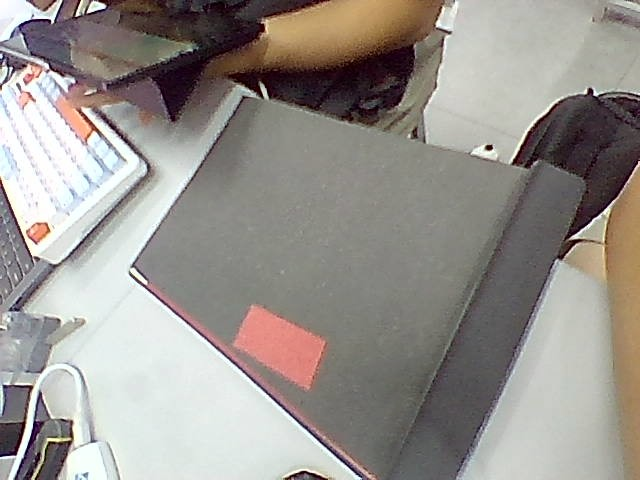card: (233, 305, 326, 390)
